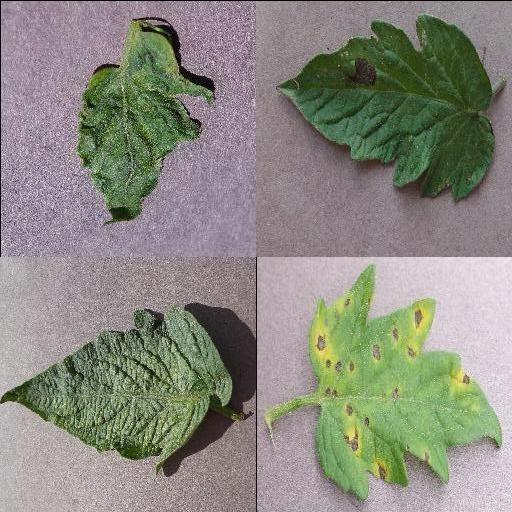Early Blight: (278, 10, 492, 200)
Mosaic Virus: (76, 32, 216, 230)
Septoria: (306, 267, 500, 502)
Spider Mites: (0, 306, 234, 470)
